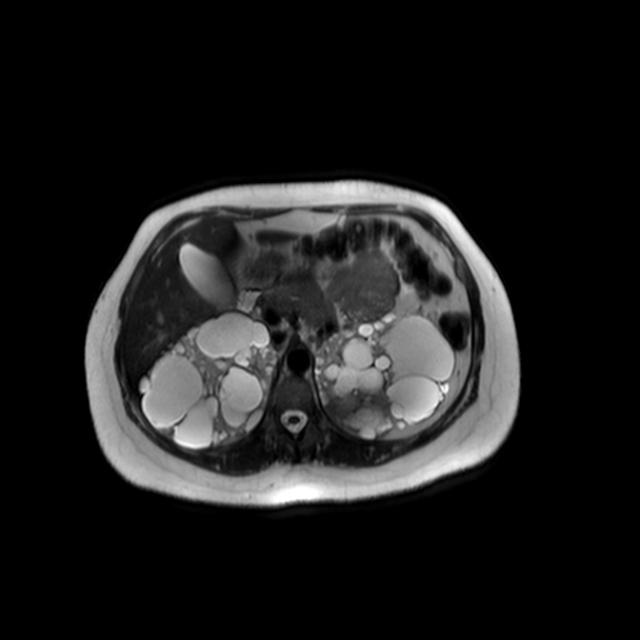sag: (138, 309, 280, 449)
sol: (314, 311, 456, 442)
